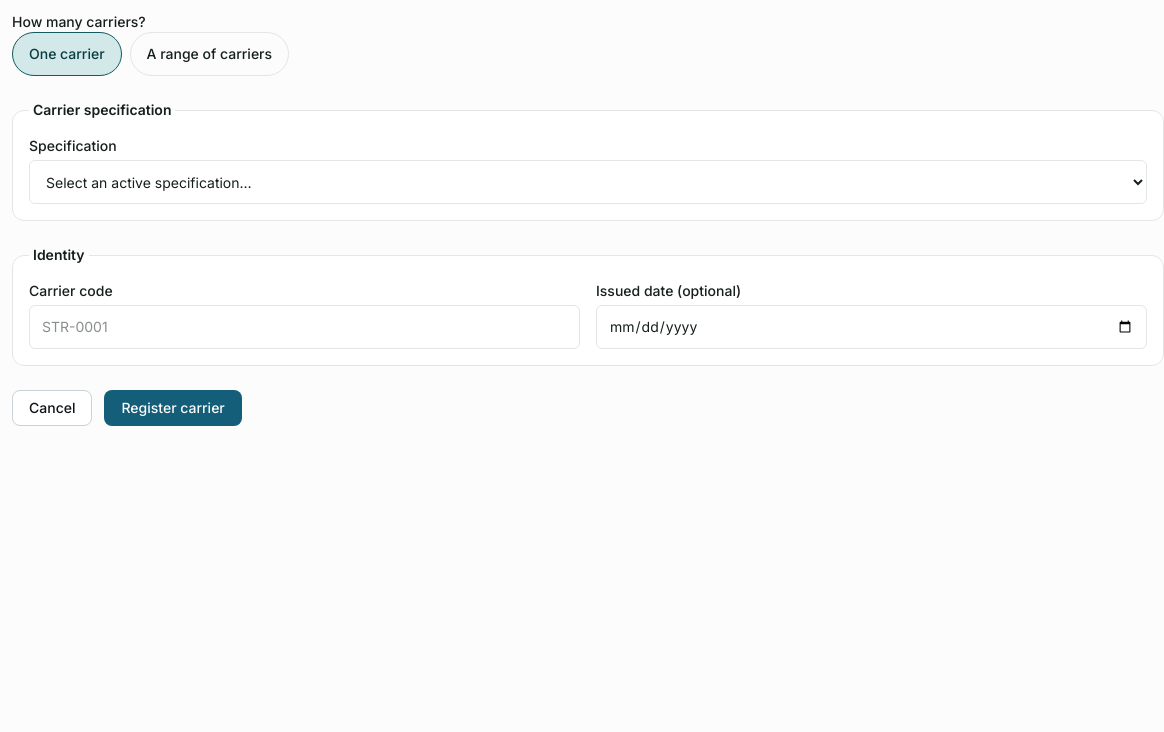
Test: CarrierRegistrationForm -- legacy cultivation_plate exclusion › still allows nursery and production cultivation plates through unchanged
The width and height of the screenshot is (1164, 732).
Select "PLATE-NURSERY — 200-hole nursery plate" in the dropdown labelled "Specification" at (588, 182), box [29, 160, 1147, 204]
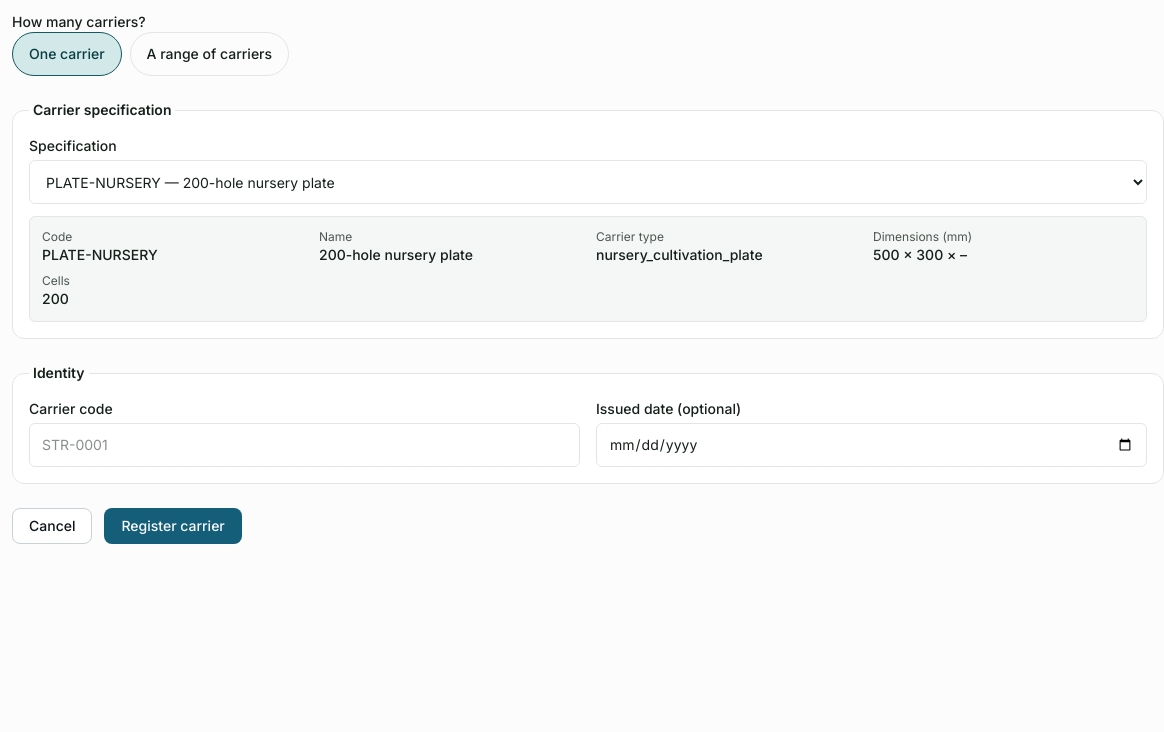
Check: the text "nursery_cultivation_plate" is shown, box [596, 246, 763, 263]
